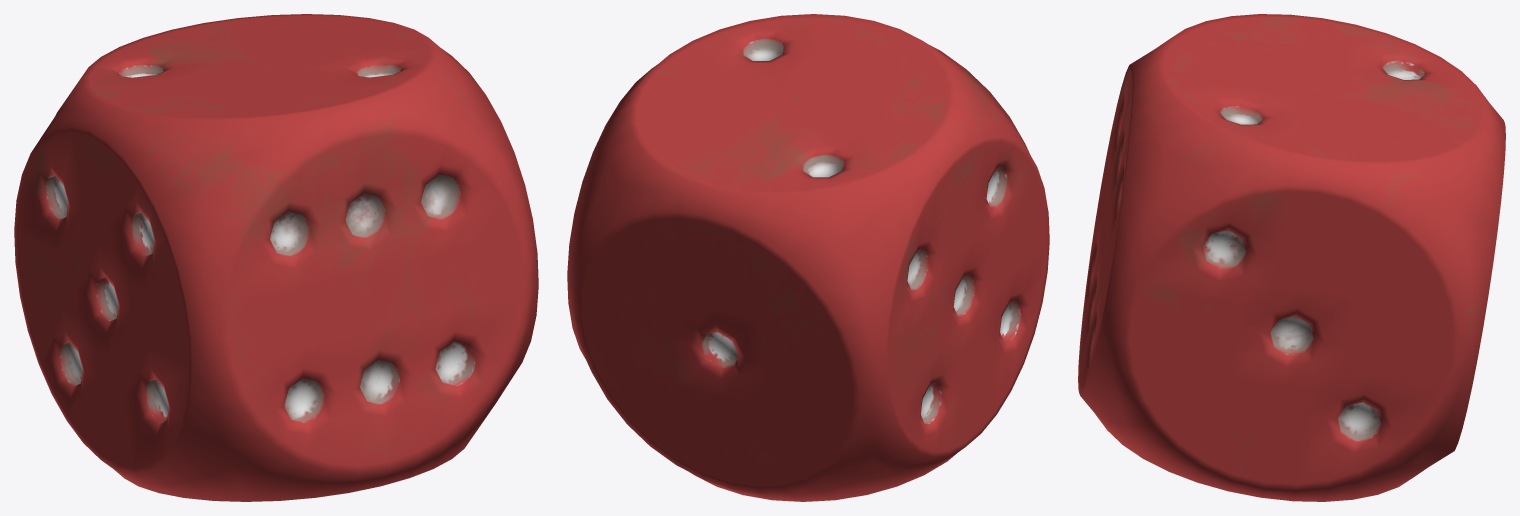
The model's file is diceCollada.dae.
The picture shows the model from 3 angles, left to right: view 1: azimuth 30°, elevation 25°; view 2: azimuth 150°, elevation 25°; view 3: azimuth 270°, elevation 25°; orthographic projection. The views are drawn at different scales.
Parts seen in each view (by area): view 1: Dice; view 2: Dice; view 3: Dice.
Part boxes in pixels (x1,y1,x2,y2): Dice: (14,14,538,501); Dice: (567,14,1049,501); Dice: (1078,14,1505,501).
Bounding box in the file's own units: 0.01 × 0.0113 × 0.0113.
1 material, 1 textured.
